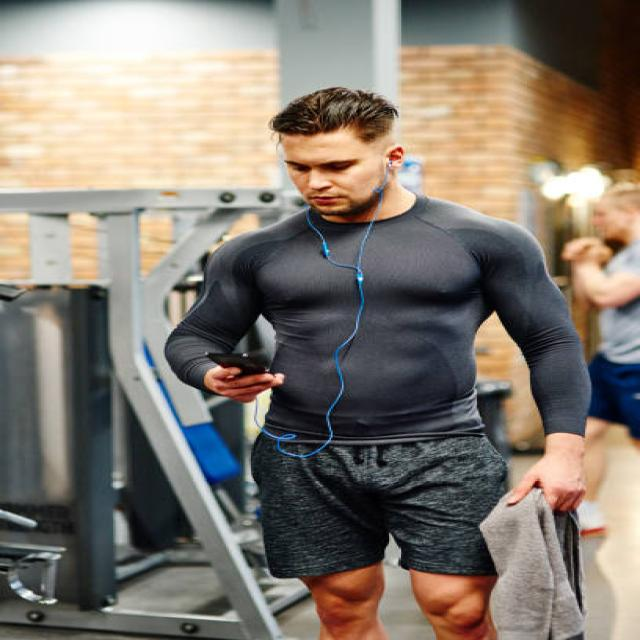Earphone: (306, 158, 399, 456)
